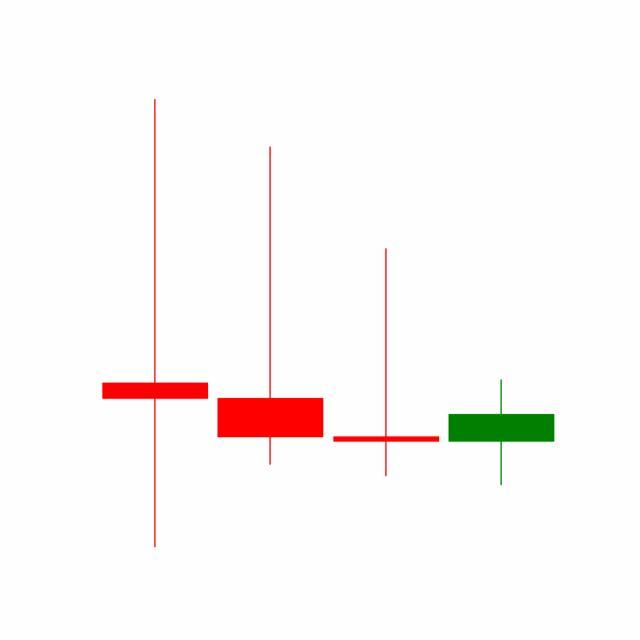Spinning Top: (444, 378, 560, 487)
